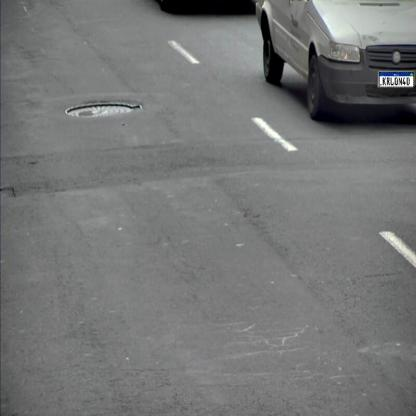PlacaM: (379, 72, 414, 87)
